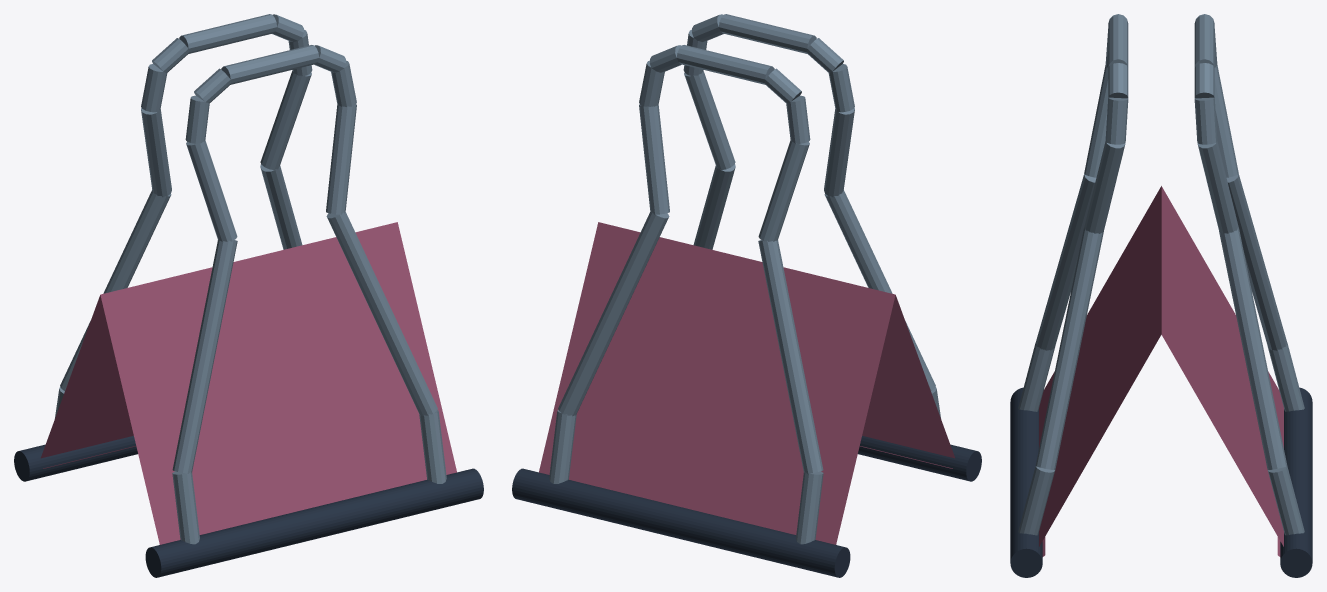
Rendered from binder.glb.
The picture shows the model from 3 angles, left to right: view 1: azimuth 30°, elevation 25°; view 2: azimuth 150°, elevation 25°; view 3: azimuth 270°, elevation 25°; orthographic projection. The views are drawn at different scales.
Visible parts, largest first — view 1: fold 0, front lip, fold 1, wire 11, wire 19, rear lip, wire -11, wire 18, wire 12, wire -18, wire -15, wire 15 (+9 smaller); view 2: fold 1, rear lip, fold 0, wire -11, wire -19, front lip, wire 11, wire -18, wire -12, wire 18, wire 15, wire -15 (+9 smaller); view 3: fold 0, fold 1, wire -19, wire 19, rear lip, front lip, wire -11, wire 11, wire -18, wire 18, wire -110, wire 110 (+10 smaller).
Part boxes in pixels (box(x1,y1,x2,y2)): fold 0: box(100, 222, 456, 544); front lip: box(145, 468, 483, 577); fold 1: box(41, 295, 133, 458); wire 11: box(172, 240, 237, 473); wire 19: box(326, 211, 437, 416); rear lip: box(14, 436, 137, 481); wire -11: box(60, 190, 171, 391); wire 18: box(326, 104, 356, 214); wire 12: box(186, 140, 237, 241); wire -18: box(260, 70, 311, 169); wire -15: box(179, 14, 276, 53); wire 15: box(221, 45, 319, 84); fold 1: box(539, 222, 895, 544); rear lip: box(512, 468, 850, 577); fold 0: box(862, 295, 954, 458); wire -11: box(758, 240, 823, 473); wire -19: box(558, 211, 669, 416); front lip: box(858, 436, 981, 481); wire 11: box(824, 190, 935, 391); wire -18: box(639, 104, 669, 214); wire -12: box(758, 140, 809, 241); wire 18: box(684, 70, 735, 169); wire 15: box(719, 14, 816, 53); wire -15: box(676, 45, 774, 84); fold 0: box(1039, 186, 1161, 546); fold 1: box(1161, 186, 1283, 546); wire -19: box(1219, 228, 1287, 469); wire 19: box(1035, 228, 1103, 469); rear lip: box(1280, 387, 1312, 577); front lip: box(1010, 387, 1042, 577); wire -11: box(1226, 174, 1287, 350); wire 11: box(1035, 174, 1096, 350); wire -18: box(1197, 141, 1238, 233); wire 18: box(1084, 141, 1125, 233); wire -110: box(1267, 466, 1304, 535); wire 110: box(1018, 466, 1055, 535).
Size of the model in its own units: 1.02 by 1.36 by 0.806.
